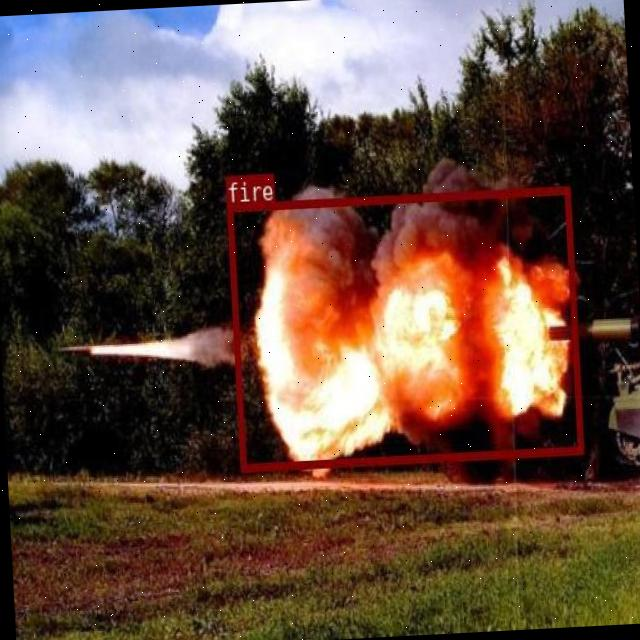fire: (226, 186, 584, 472)
